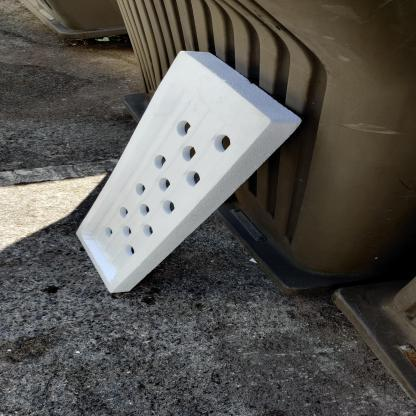kopuk: (74, 52, 310, 296)
